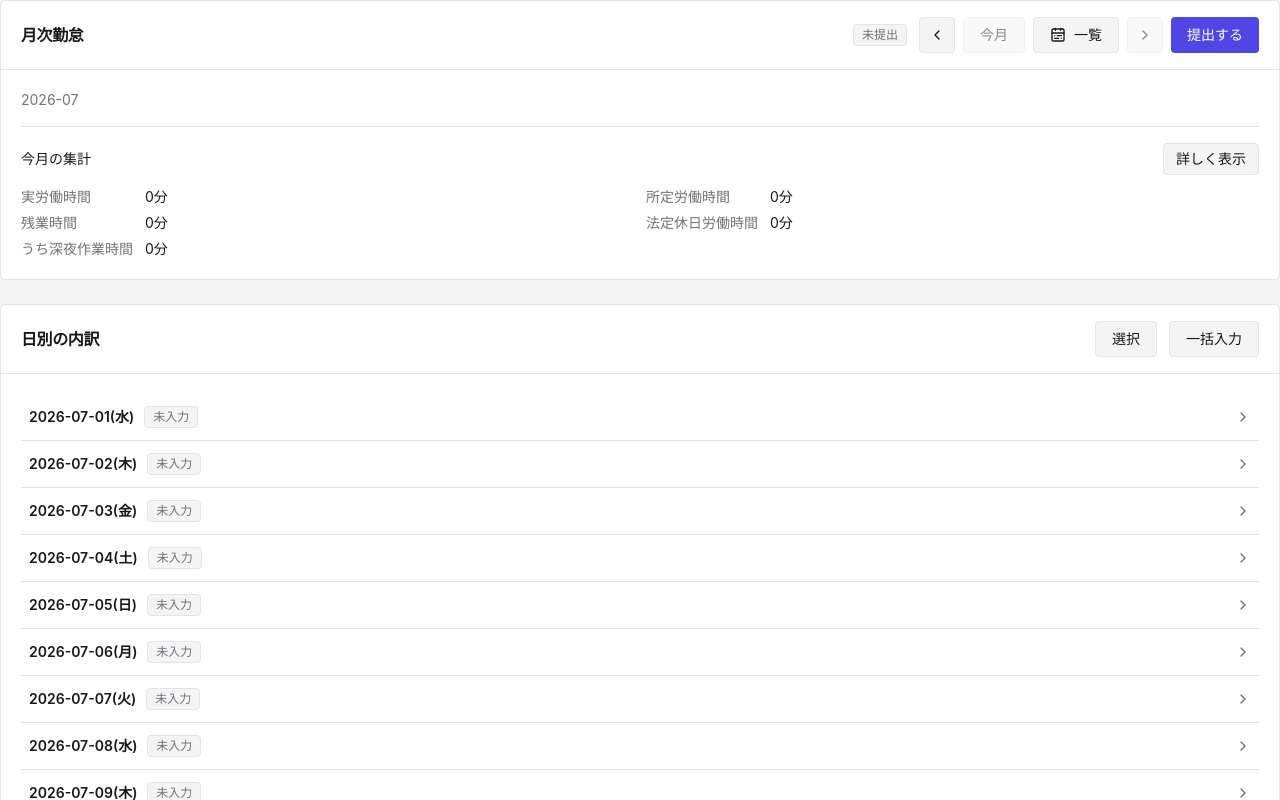
Test: AttendanceMonthDetailPage › month navigation › navigates to the previous employment month
Expected: the heading "月次勤怠" is shown, [21,25,83,45]
Click the button named "前月" at point(937, 35), box [919,17,955,53]
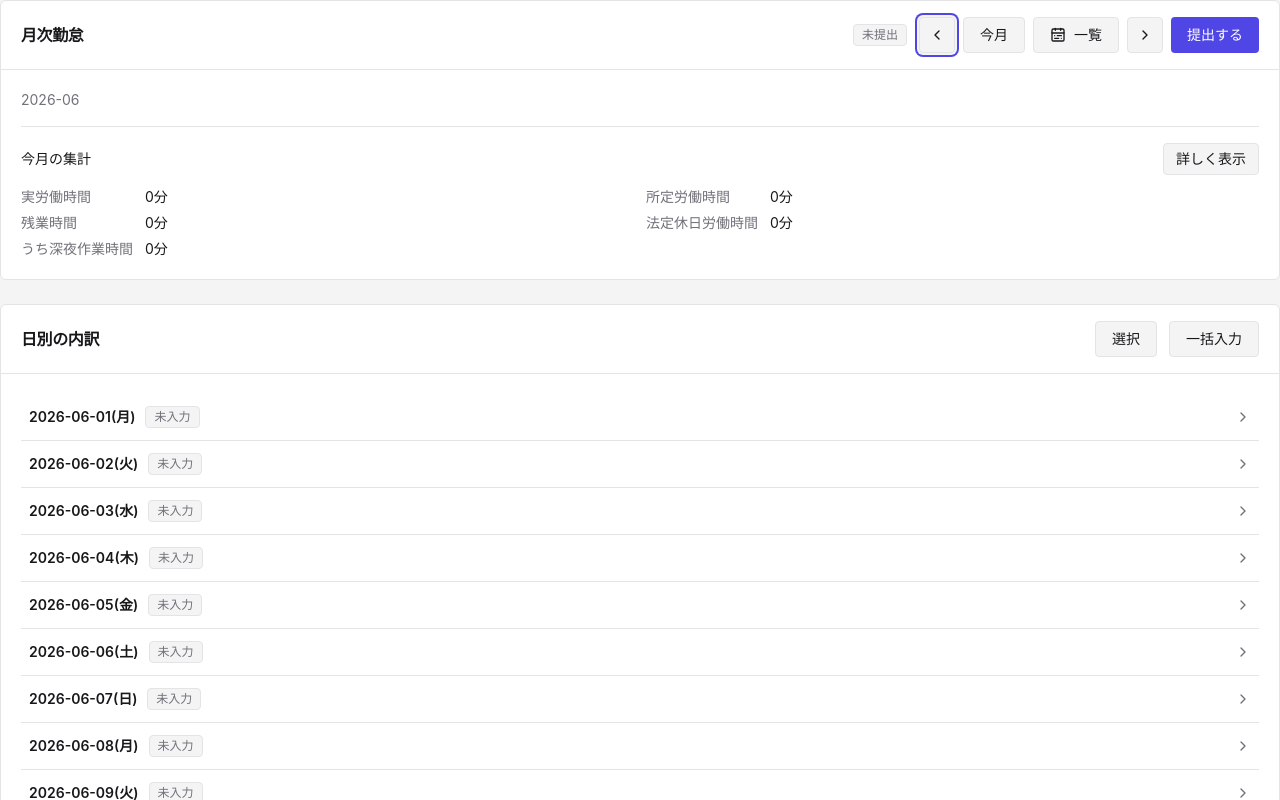
Expected: the text "2026-06" is shown, [21,91,80,108]
